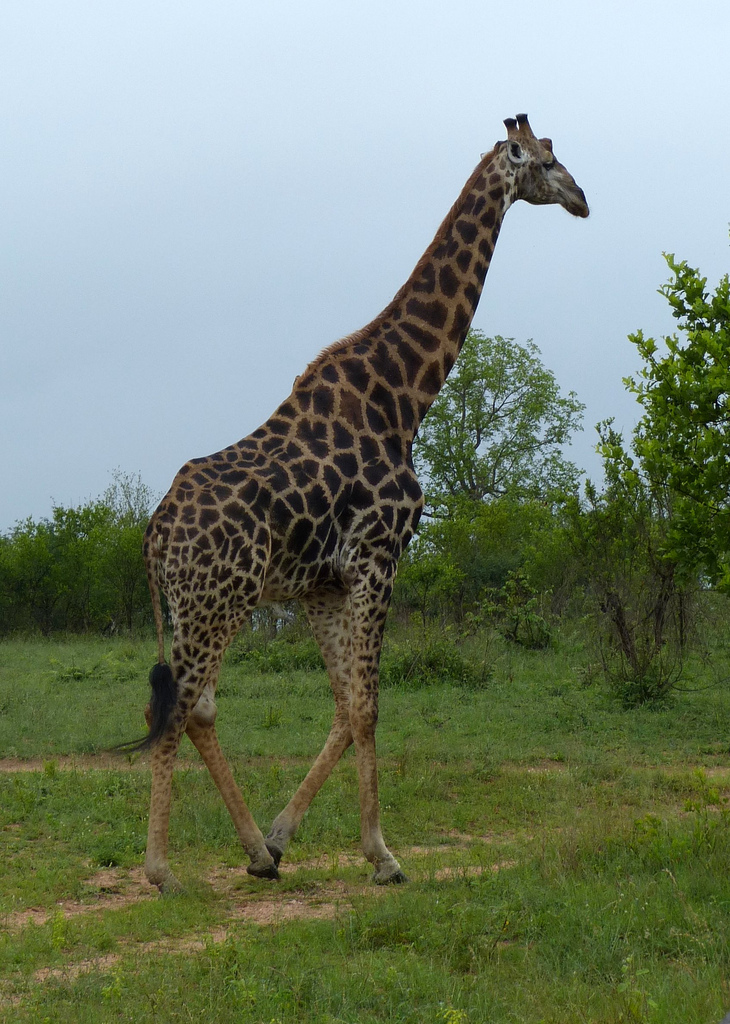giraffe: (86, 93, 637, 920)
